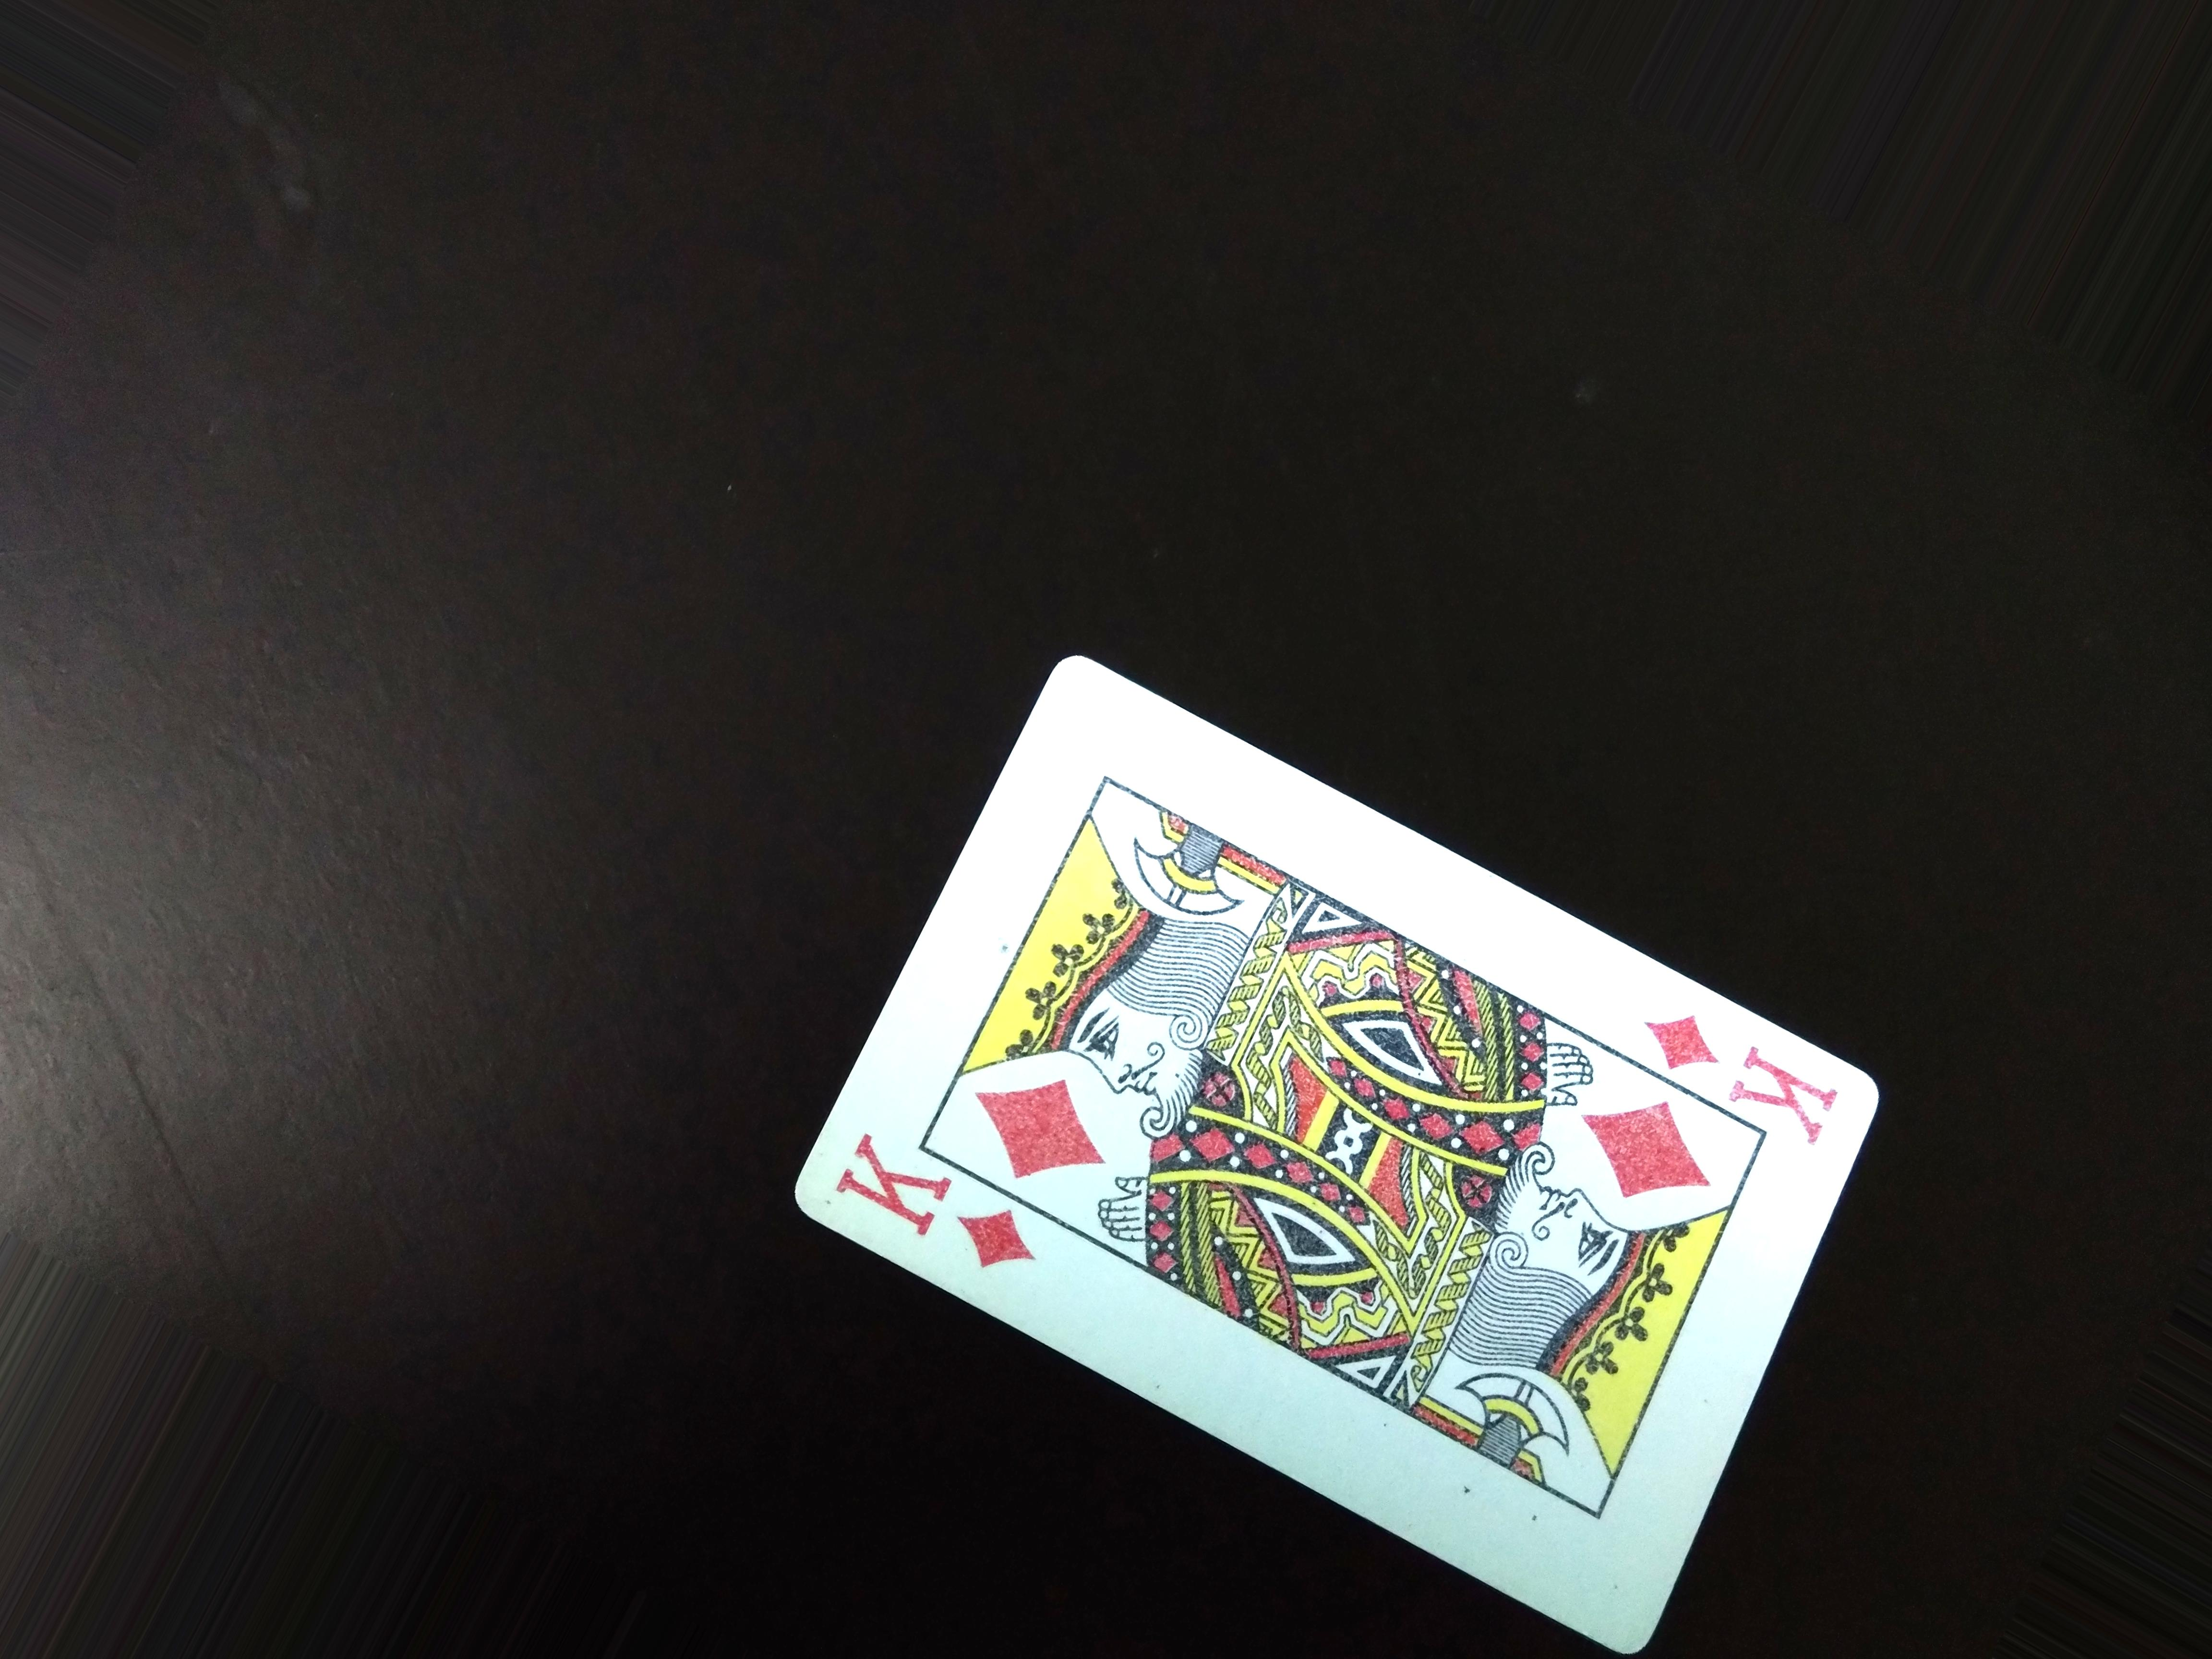KD: (1648, 1007, 1857, 1141)
